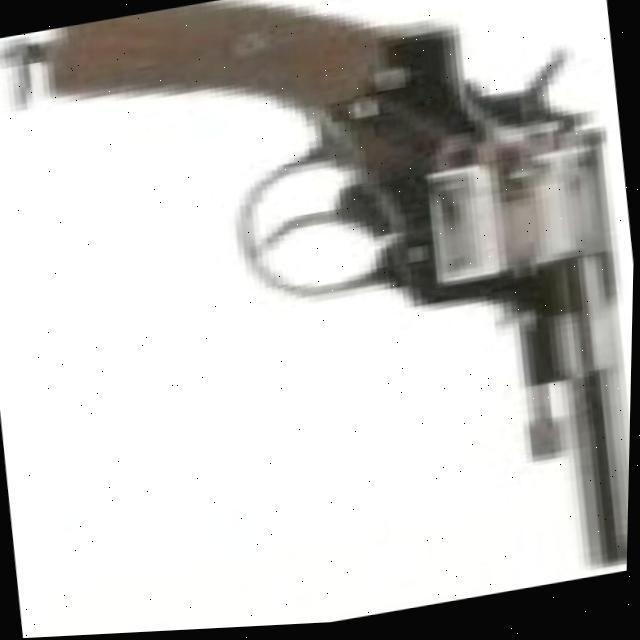gun: (33, 0, 640, 638)
